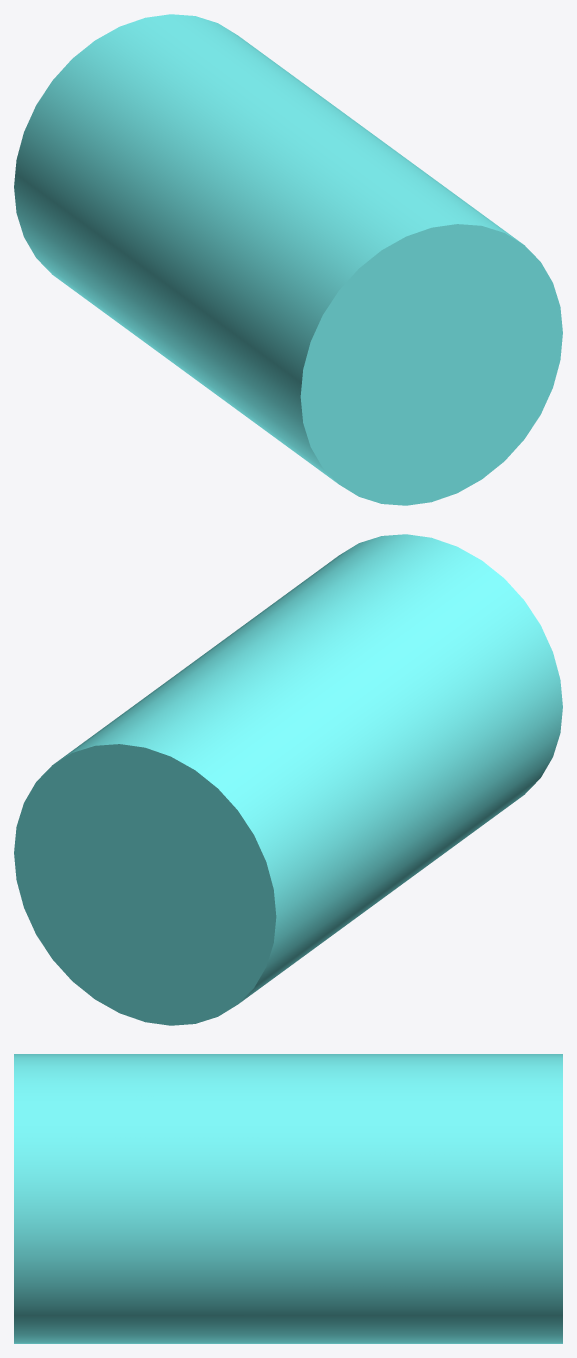
File: coax_ShortingPin.obj
3 renders of one model, top to bottom at view 1: azimuth 30°, elevation 25°; view 2: azimuth 150°, elevation 25°; view 3: azimuth 270°, elevation 25°, orthographic. The views are drawn at different scales.
Size of the model in its own units: 10.78 by 10.78 by 20.39.
